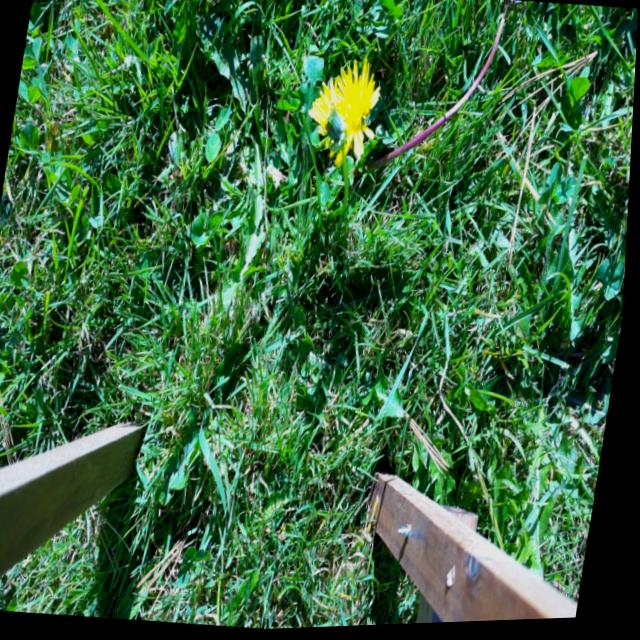base: (351, 164, 375, 195), (320, 206, 342, 235)
